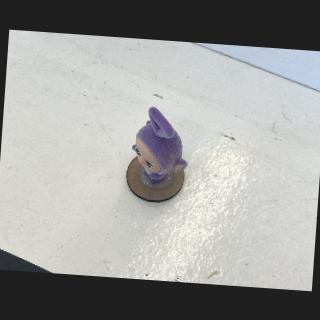teletubby: (131, 107, 187, 183)
